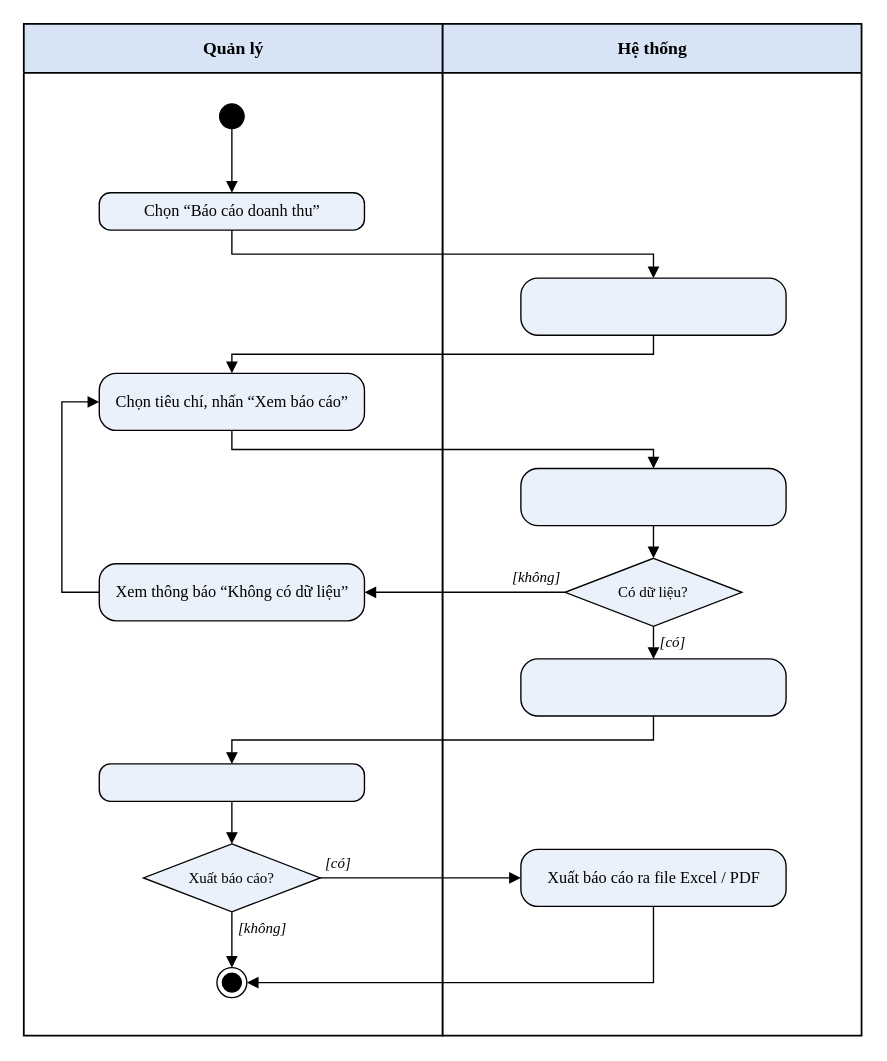
Image size: 887x1061. Some labels were removed from this diagram. The shapes that lost their labels are listed below. From the top down, each one's centre as x and y in pixels, then its label:
pixel 653 306: Hiển thị bộ lọc thời gian, hình thức thanh toán
pixel 653 496: Tổng hợp dữ liệu từ các hóa đơn đã thanh toán
pixel 653 687: Hiển thị tổng doanh thu, số đơn, món bán chạy, biểu đồ
pixel 231 782: Xem báo cáo
